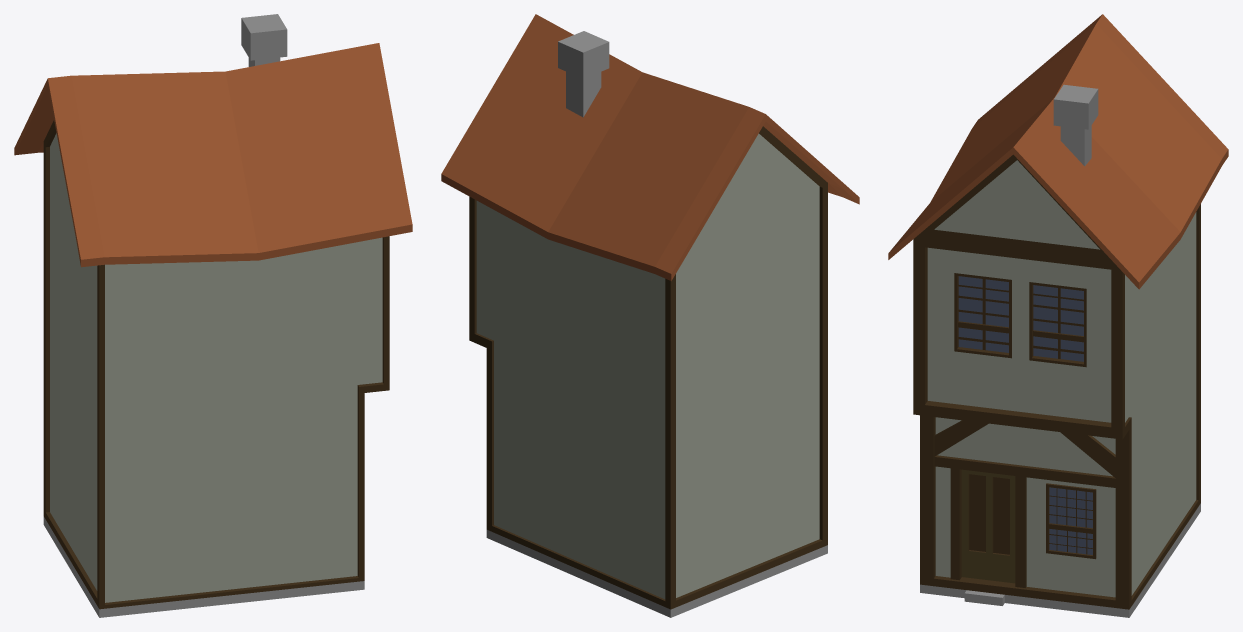
3 views of the same model, side by side, from view 1: azimuth 30°, elevation 25°; view 2: azimuth 150°, elevation 25°; view 3: azimuth 270°, elevation 25° (orthographic). The views are drawn at different scales.
Parts seen in each view (by area): view 1: House7; view 2: House7; view 3: House7.
Boxes of the visible parts, left/top/right/bottom form: House7: left=14, top=14, right=412, bottom=617; House7: left=441, top=14, right=859, bottom=617; House7: left=888, top=14, right=1228, bottom=617.
Bounding box in the file's own units: 540 × 756 × 475.
Materials: 1 (1 with a texture image).
